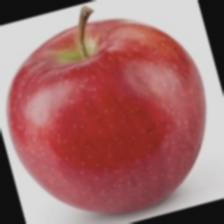apple: (39, 32, 199, 173)
